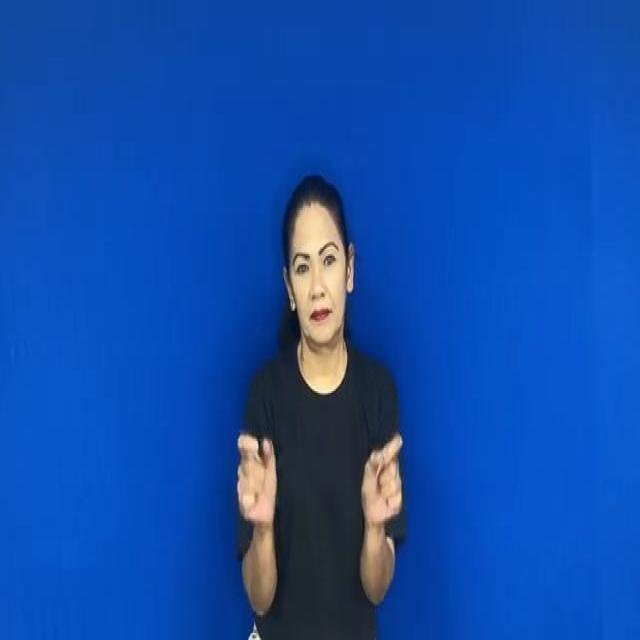crab: (223, 418, 418, 537)
